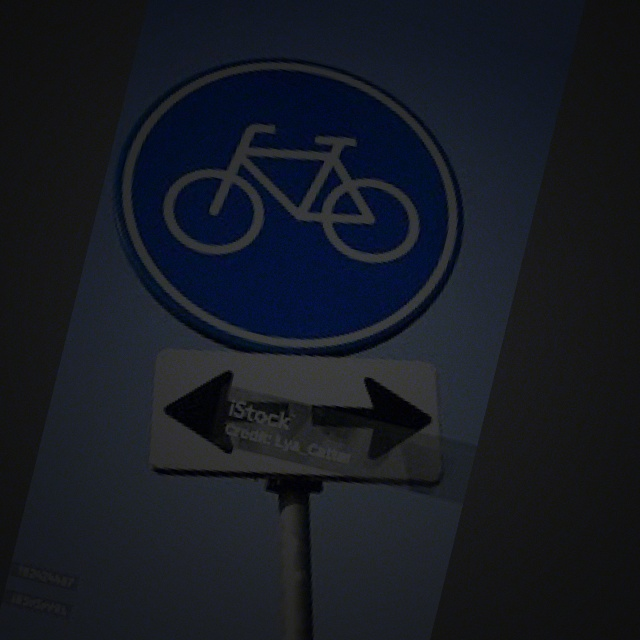Compulsory_Cycle_Track: (98, 25, 499, 359)
